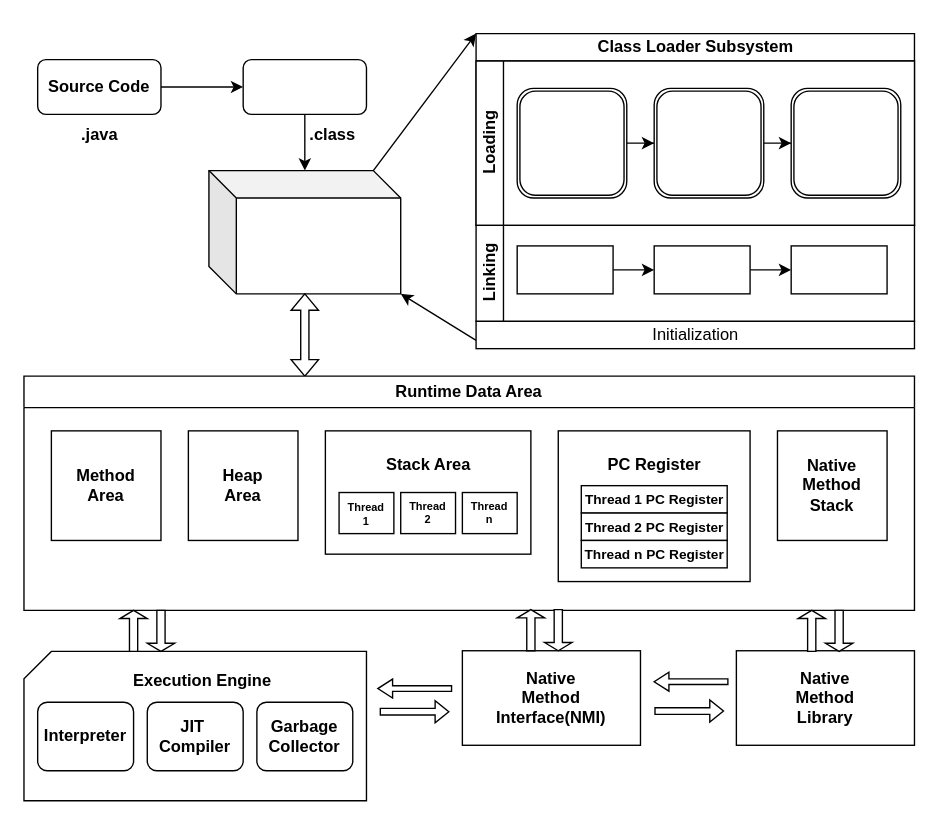
This 938x825 diagram has some shape labels left out. The centre of each missing label's shape, as x and y in pixels:
Application Class Loader: pixel 845 142
Bootstrap Class Loader: pixel 571 142
Byte Code: pixel 304 86
Class Loder: pixel 304 231
Extension Class Loader: pixel 708 142
Prepare: pixel 701 269
Resolve: pixel 838 269
Verify: pixel 564 269
